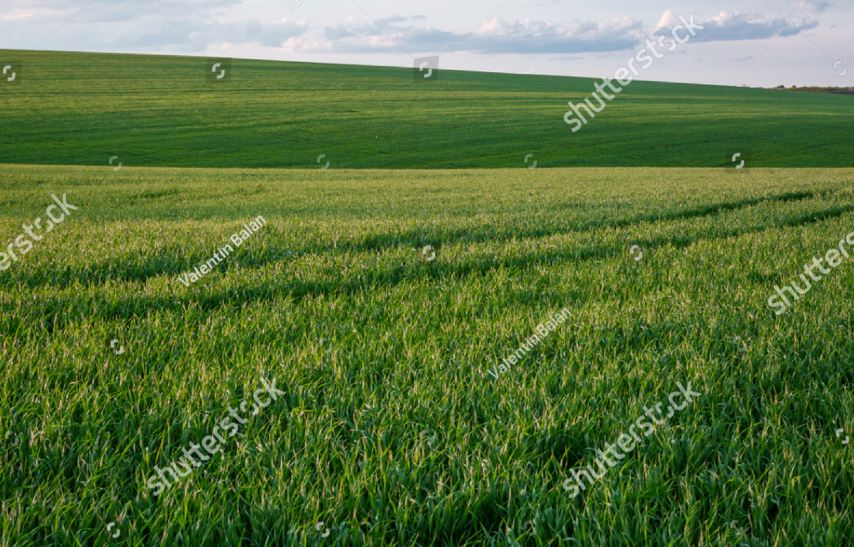Wheat: (110, 293, 566, 519)
